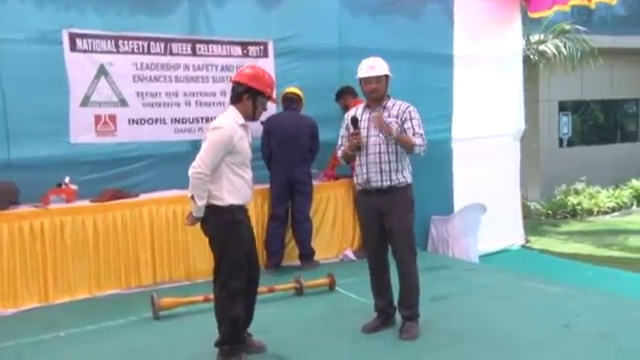helmet: (230, 63, 280, 105), (353, 55, 394, 80), (281, 85, 306, 105)
helmet_off: (334, 84, 366, 116)
helmet_on: (228, 62, 281, 129), (353, 54, 394, 109), (280, 84, 307, 117)
person: (184, 62, 282, 360), (339, 55, 425, 342), (261, 84, 324, 272)
